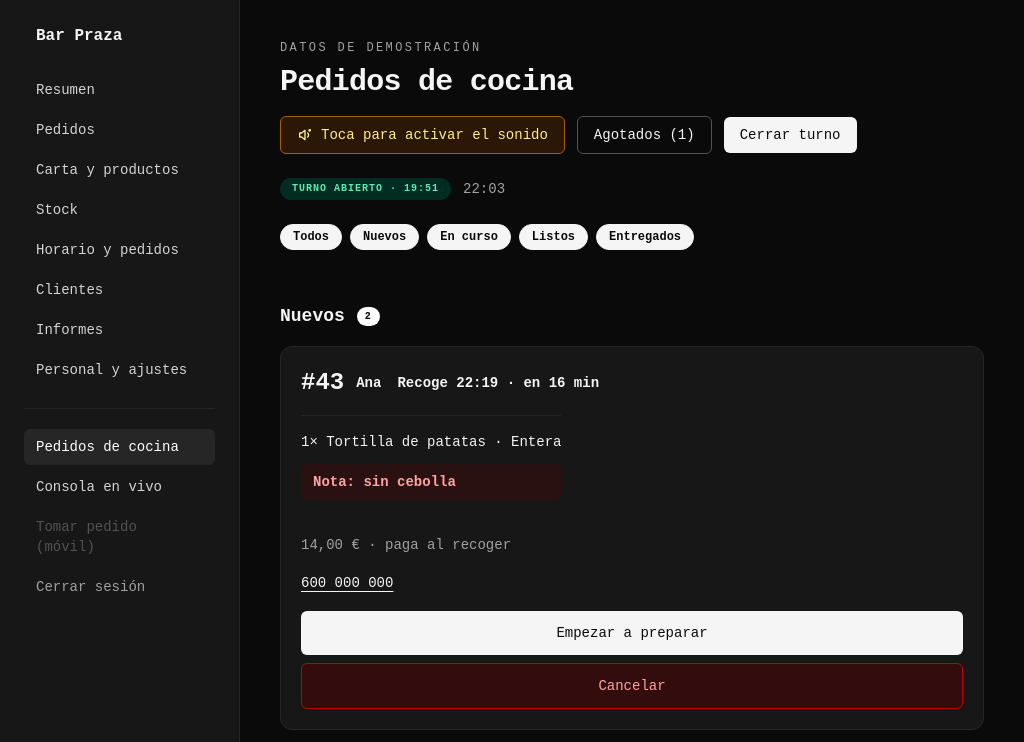
Test: Cerrar turno › shows an error and keeps the shift open when it cannot be closed
Click the button "Cerrar turno".
click(790, 135)  # box [724,117,856,153]
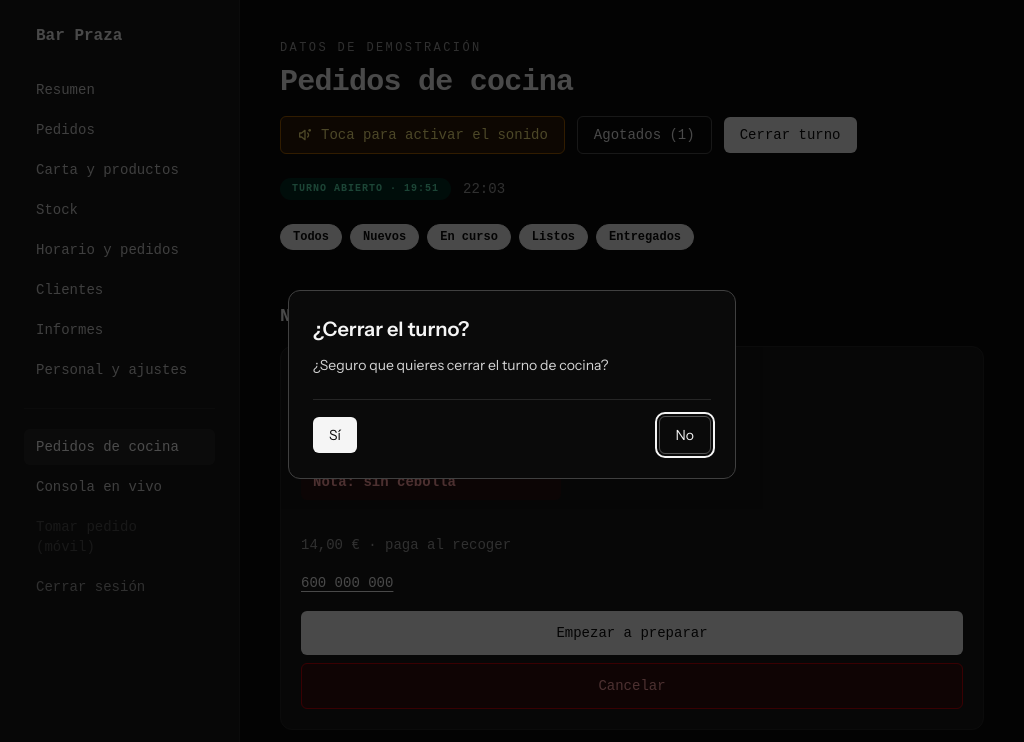
Click the button "Sí".
click(335, 434)  # box [313,416,357,452]
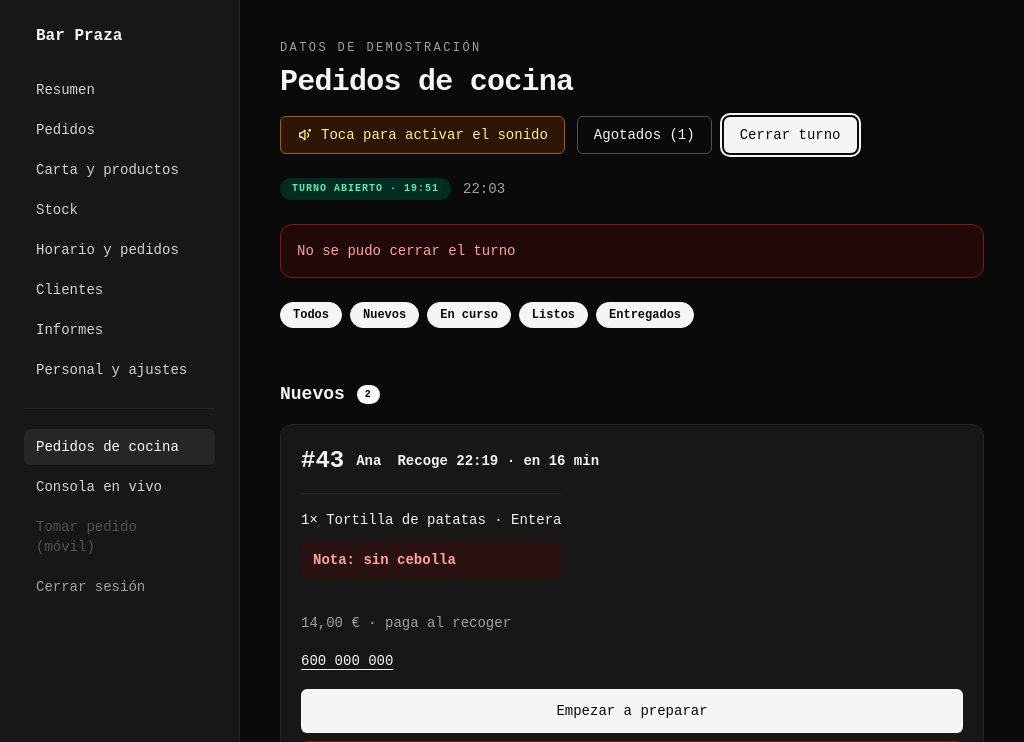
Check: the text "Turno abierto · 19:51" is shown, box [280,178,451,200]
Check: the message reads "No se pudo cerrar el turno", box [297,243,515,259]
